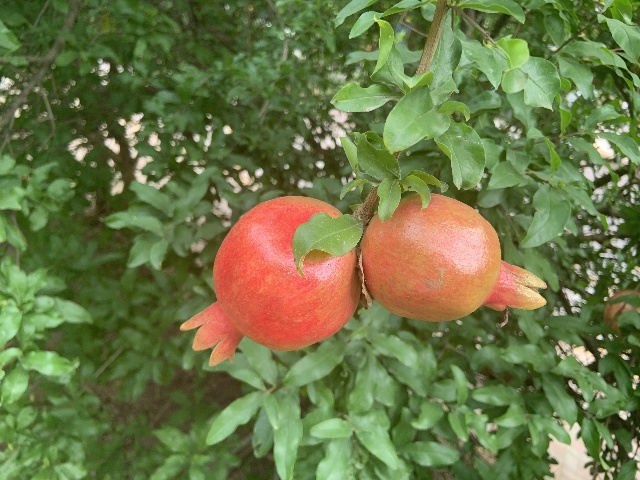ripe: (181, 196, 360, 366), (360, 192, 549, 323)
